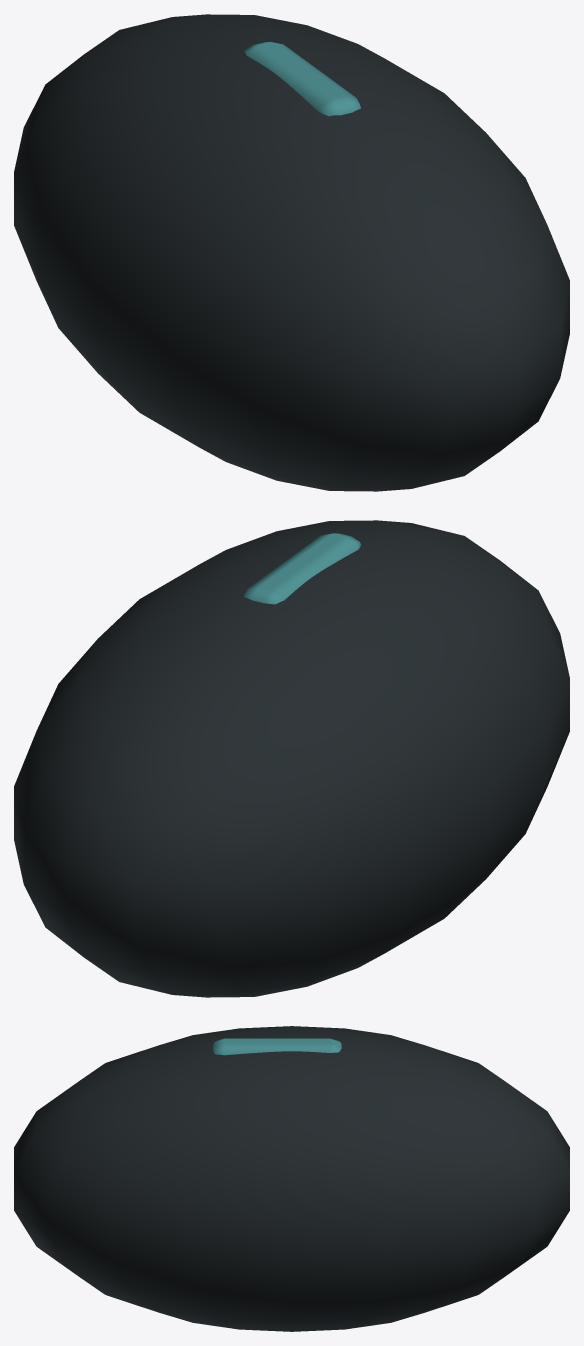
File: mouse_basic-a5bbede68bc3.glb
3 views of the same model, one above another, from view 1: azimuth 30°, elevation 25°; view 2: azimuth 150°, elevation 25°; view 3: azimuth 270°, elevation 25° (orthographic). The views are drawn at different scales.
Parts seen in each view (by area): view 1: surface_ink, surface_lagoon; view 2: surface_ink, surface_lagoon; view 3: surface_ink, surface_lagoon.
Boxes of the visible parts, bbox=[...] form: surface_ink: bbox=[14, 14, 569, 491]; surface_lagoon: bbox=[244, 42, 360, 116]; surface_ink: bbox=[14, 520, 569, 997]; surface_lagoon: bbox=[244, 533, 360, 604]; surface_ink: bbox=[14, 1026, 569, 1331]; surface_lagoon: bbox=[212, 1038, 341, 1055].
Size of the model in its own units: 0.0693 by 0.0625 by 0.115.
